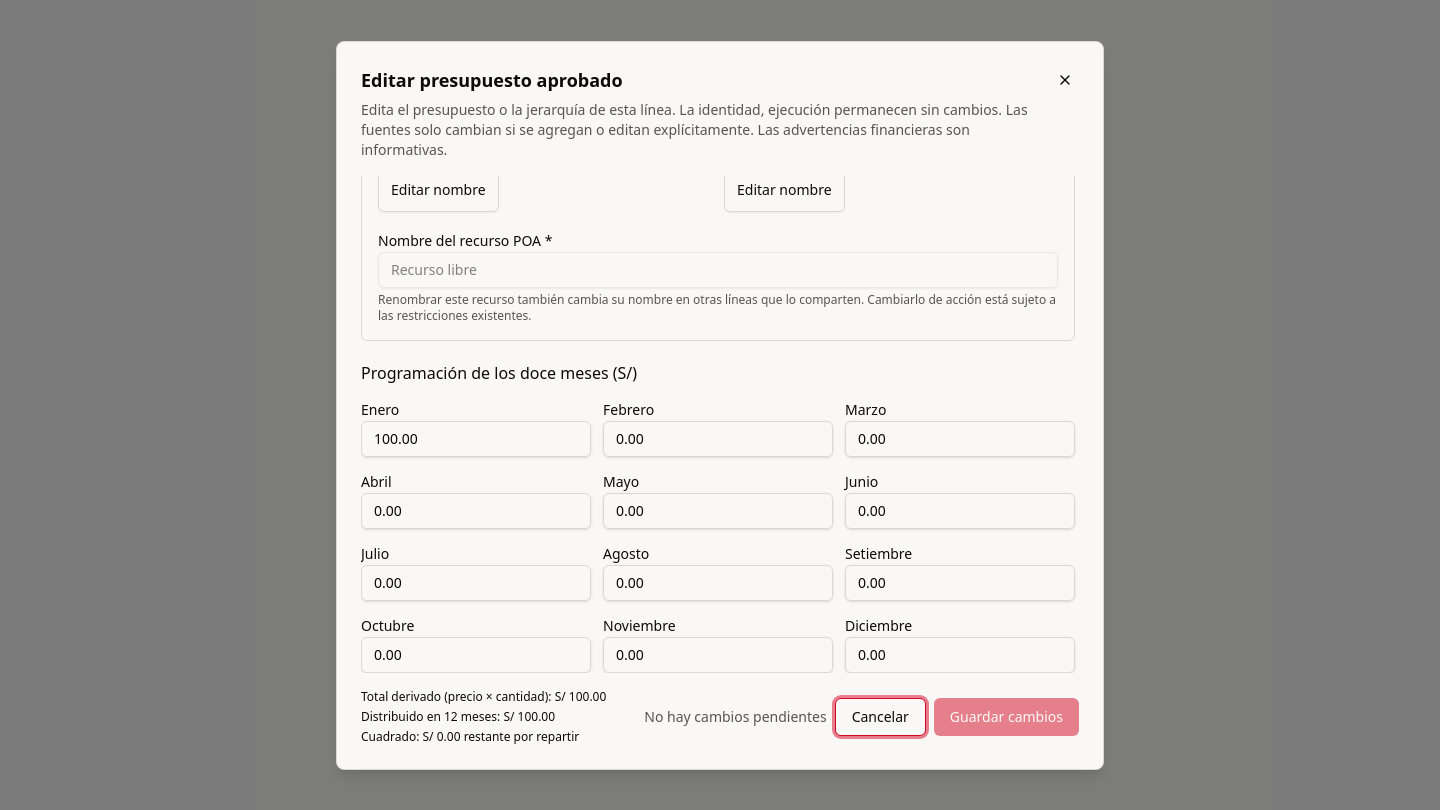
Test case: approved amendment dialog › renombra catálogo sin resembrar meses ni revisión de la edición aprobada
(page scrolled)
Replace the text in the field labelled "Febrero" with "7.25" at [718, 438], box [603,420,833,456]
(page scrolled)
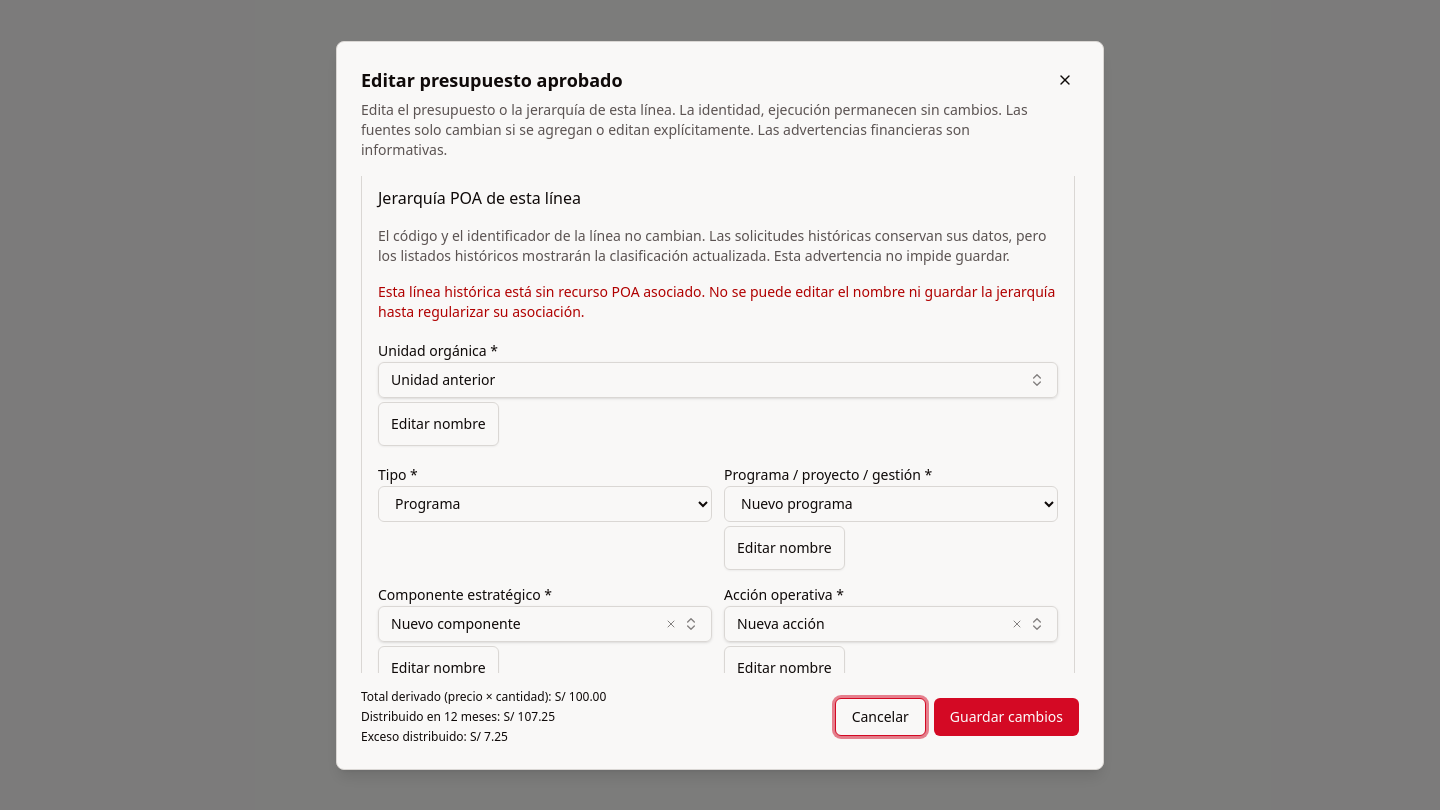
Click the button with aria-label "Editar nombre de Unidad orgánica" at [438, 424], box [378,402,499,446]
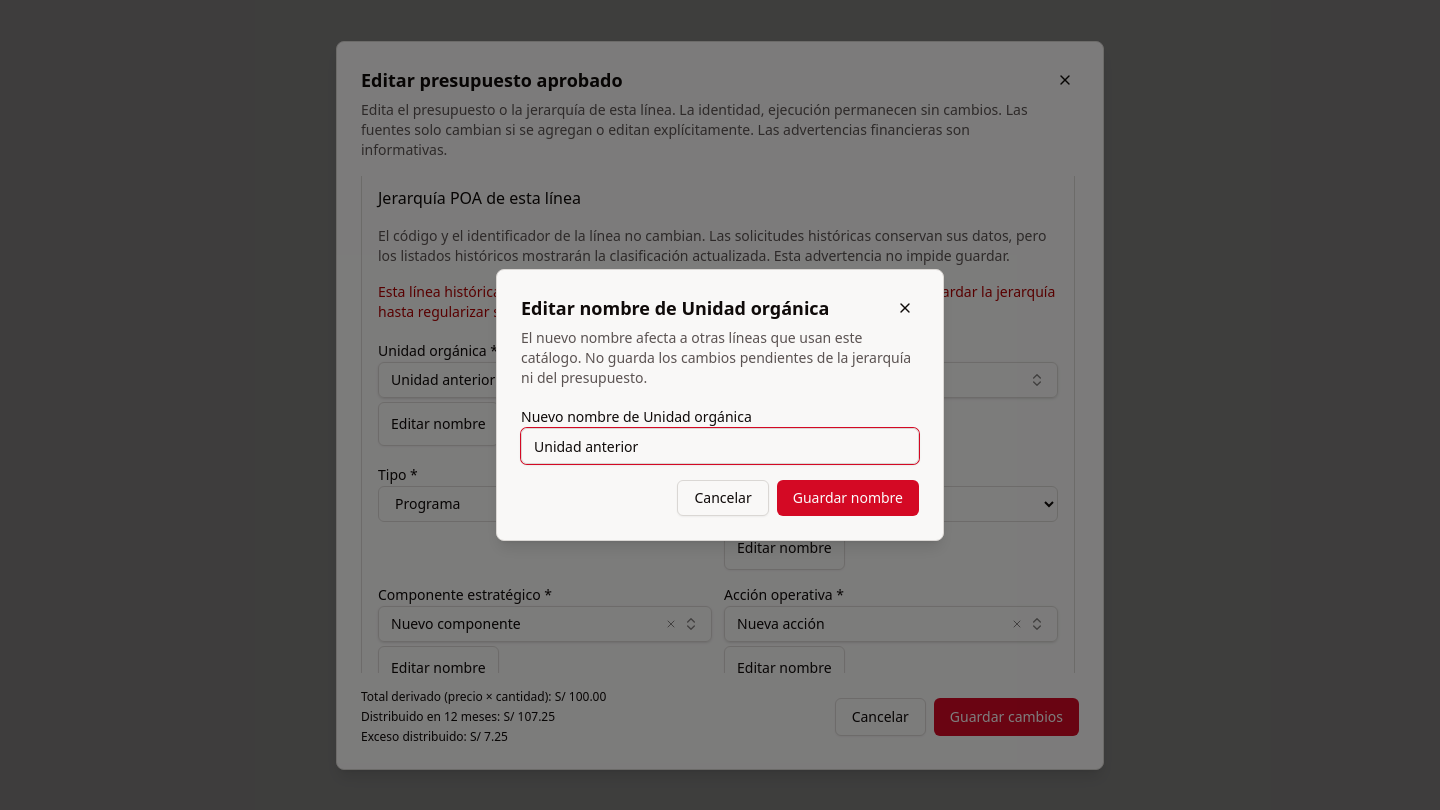
Replace the text in the field labelled "Nuevo nombre de Unidad orgánica" with "Unidad nueva" at [720, 446], box [521,428,919,464]
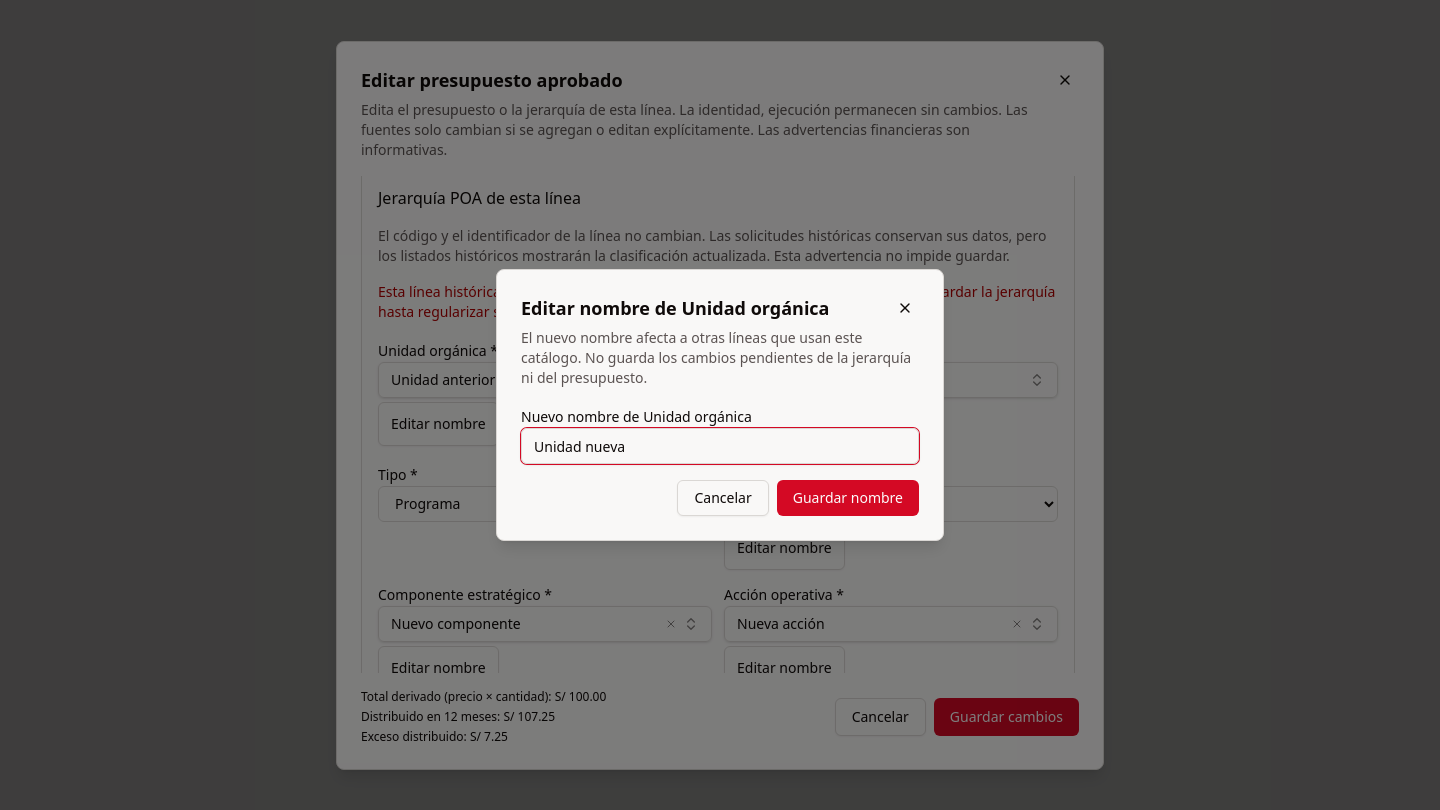
Click the button "Guardar nombre" at [848, 498], box [777,480,919,516]
(page scrolled)
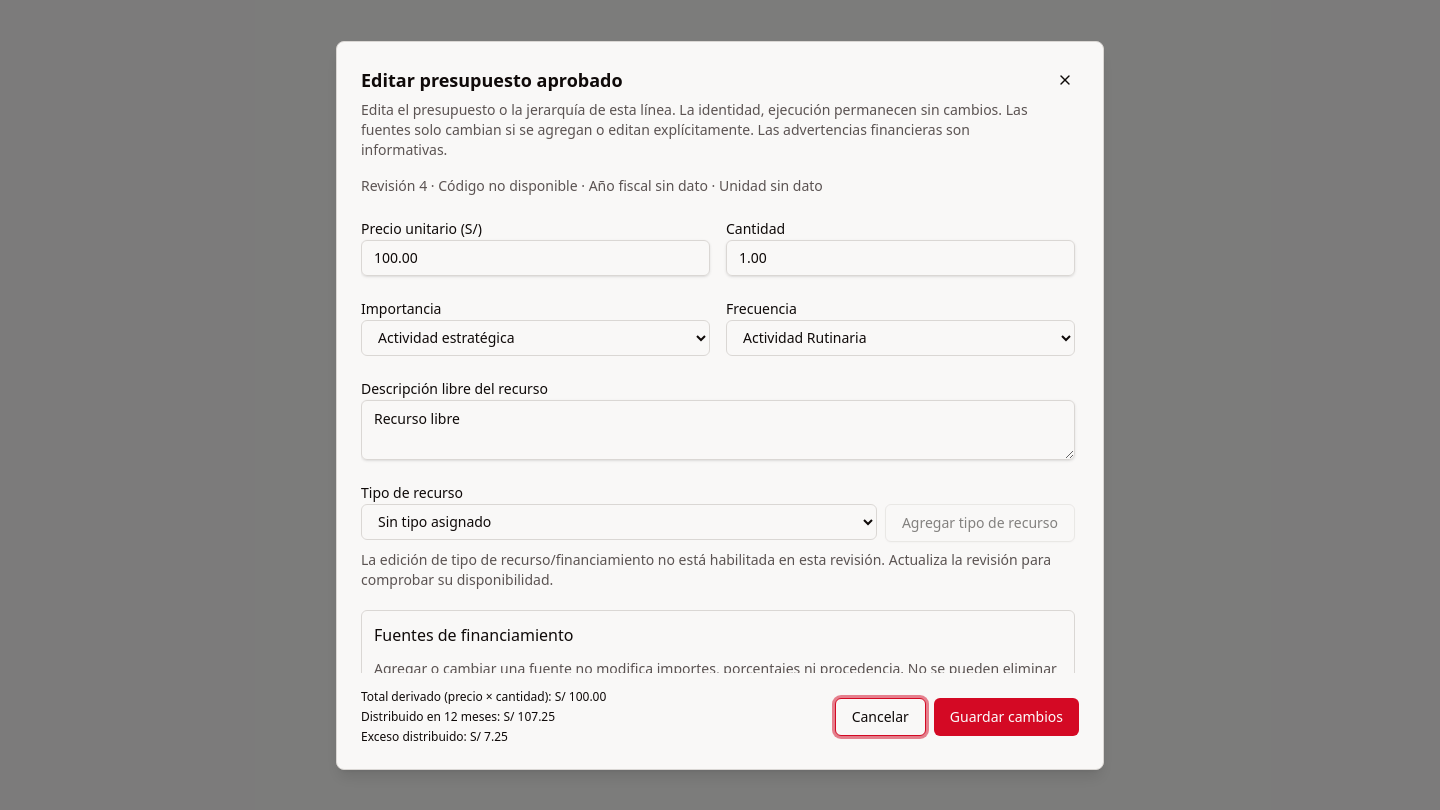
Check: the heading "Editar nombre de Unidad orgánica" is gone
Check: the text "Revisión 4" is shown, box [361,176,823,194]
